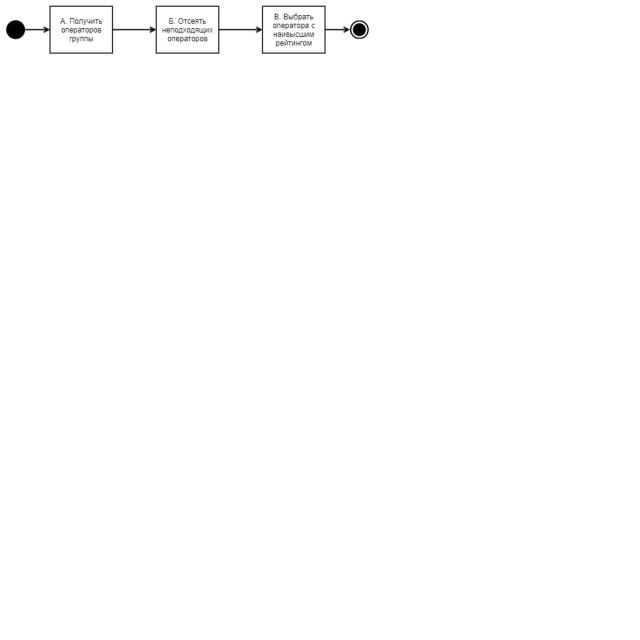arrow: (114, 27, 155, 32), (220, 27, 261, 32), (25, 27, 49, 32), (326, 27, 348, 32)
circle: (7, 21, 24, 39), (350, 21, 368, 38)
rectangle: (50, 6, 113, 53), (156, 6, 219, 53), (262, 6, 325, 53)
